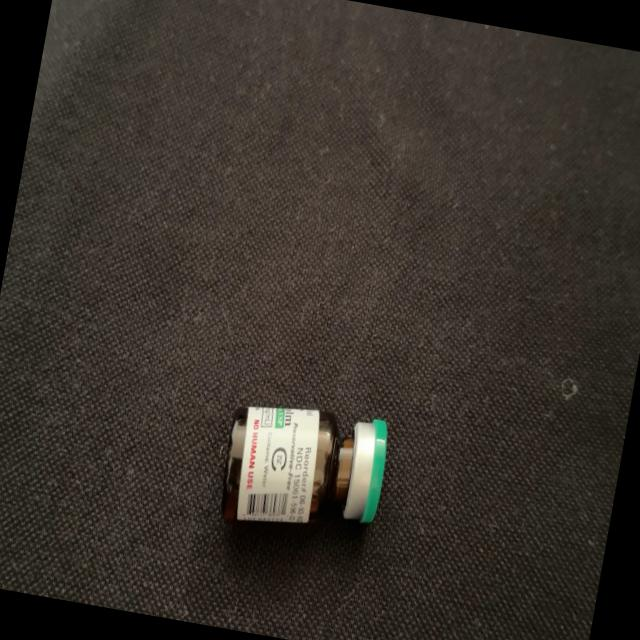midazolm: (218, 396, 390, 543)
